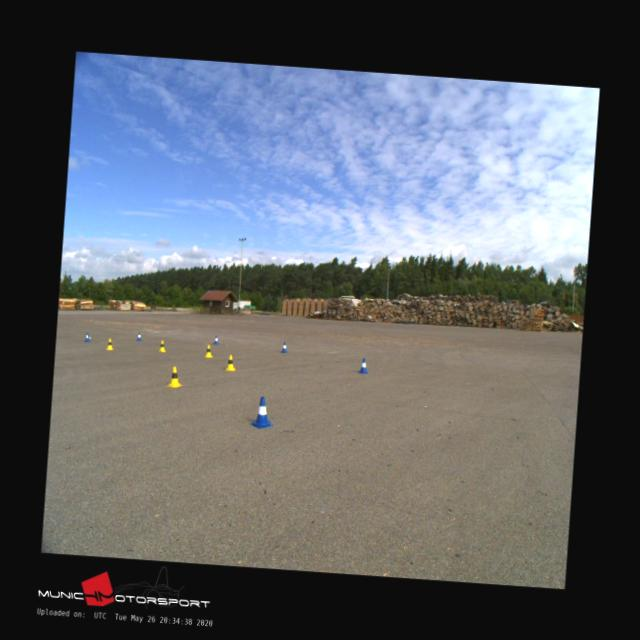blue_cone: (250, 396, 274, 428), (358, 357, 368, 372), (280, 342, 287, 352), (212, 334, 218, 344), (84, 332, 90, 342), (136, 332, 142, 341)
yellow_cone: (166, 365, 182, 386), (224, 354, 236, 369), (204, 344, 212, 357), (105, 338, 114, 349), (158, 339, 165, 352)
